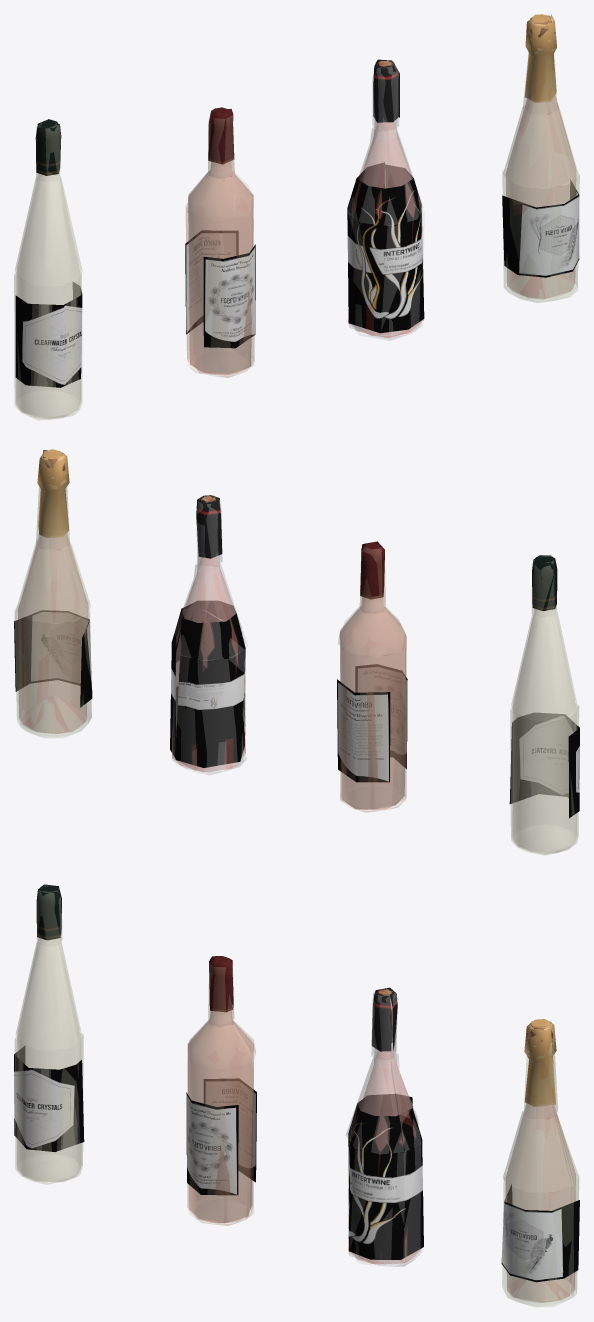
File: wine_bottles_01.glb
3 renders of one model, top to bottom at view 1: azimuth 30°, elevation 25°; view 2: azimuth 150°, elevation 25°; view 3: azimuth 330°, elevation 25°, orthographic.
Visible parts, largest first — view 1: wine_bottles_01_champagne, wine_bottles_01_alsace, wine_bottles_01_burgundy, wine_bottles_01_bordeaux; view 2: wine_bottles_01_champagne, wine_bottles_01_alsace, wine_bottles_01_burgundy, wine_bottles_01_bordeaux; view 3: wine_bottles_01_champagne, wine_bottles_01_alsace, wine_bottles_01_burgundy, wine_bottles_01_bordeaux.
Part boxes in pixels (x1,y1,x2,y2): wine_bottles_01_champagne: (502, 14, 579, 302); wine_bottles_01_alsace: (14, 119, 82, 420); wine_bottles_01_burgundy: (347, 59, 424, 340); wine_bottles_01_bordeaux: (185, 107, 255, 377); wine_bottles_01_champagne: (14, 449, 92, 737); wine_bottles_01_alsace: (509, 555, 579, 855); wine_bottles_01_burgundy: (170, 495, 247, 775); wine_bottles_01_bordeaux: (337, 541, 407, 812); wine_bottles_01_champagne: (501, 1019, 579, 1307); wine_bottles_01_alsace: (14, 884, 84, 1184); wine_bottles_01_burgundy: (346, 987, 423, 1266); wine_bottles_01_bordeaux: (186, 956, 256, 1225).
Bounding box in the file's own units: 0.6775 × 0.3326 × 0.0816.
Materials: 12 (9 with a texture image).
